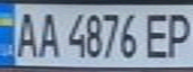4: (63, 9, 87, 58)
6: (118, 9, 145, 60)
7: (100, 10, 121, 60)
8: (81, 10, 106, 58)
A: (9, 8, 39, 59), (33, 8, 60, 59)
E: (139, 9, 172, 60)
P: (163, 9, 193, 58)
